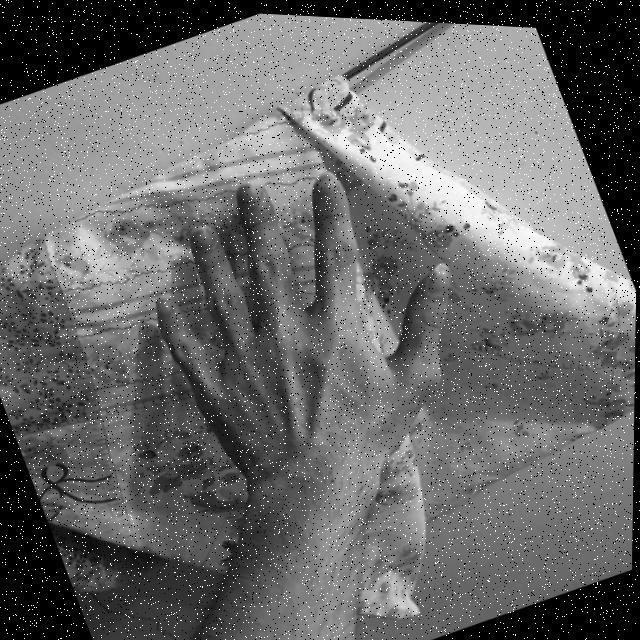no-gloves: (108, 104, 516, 520)
